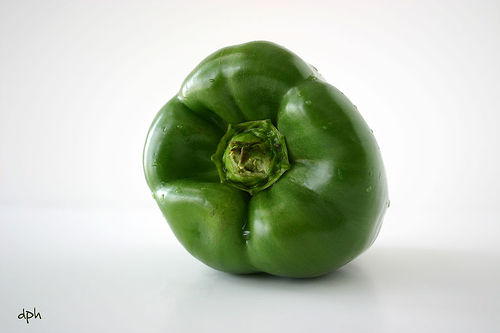capsicum: (136, 37, 394, 279)
